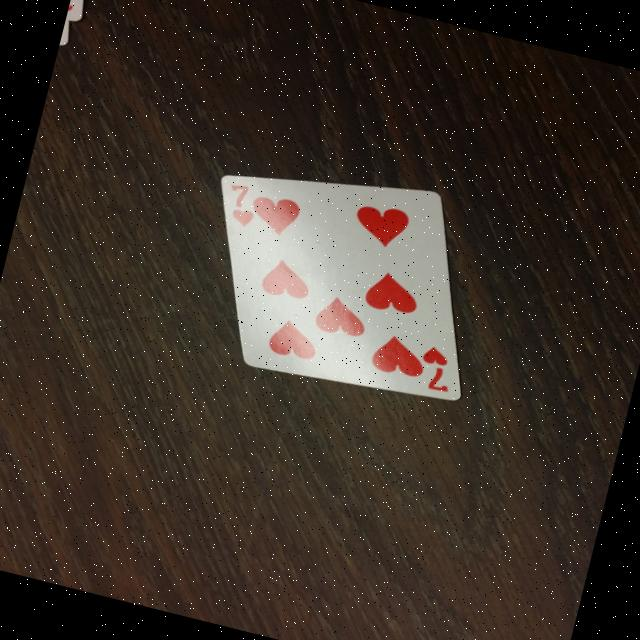7h: (404, 334, 471, 404), (210, 168, 263, 236)
